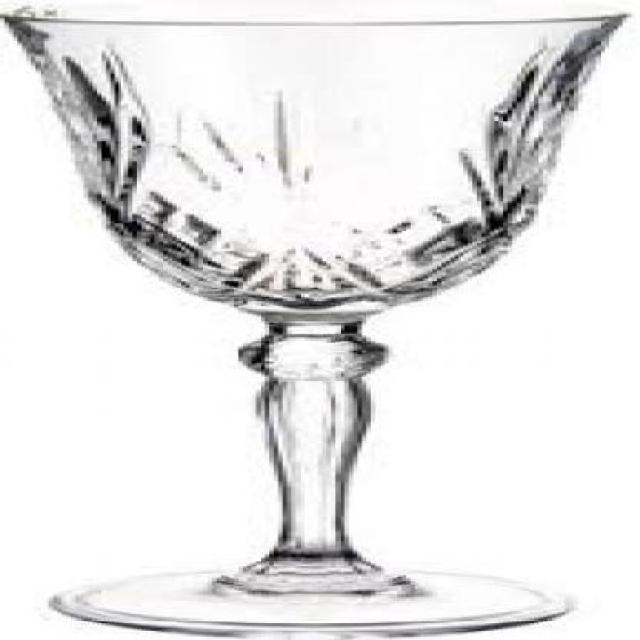kaca: (0, 1, 632, 638)
